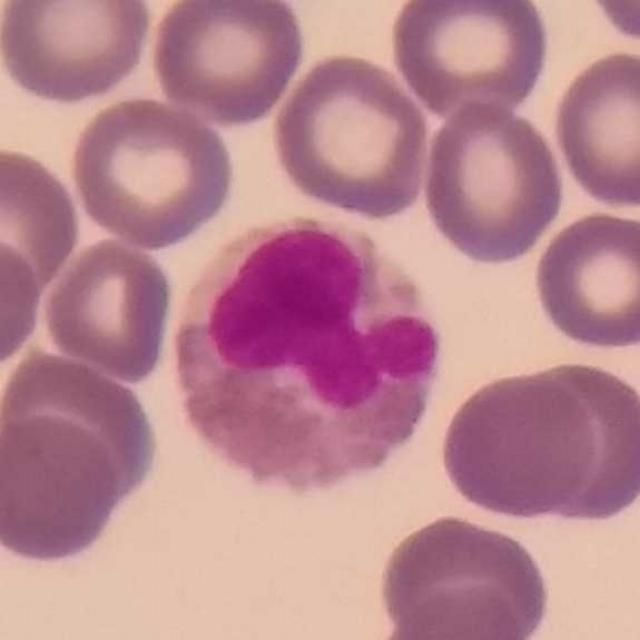eosino: (173, 212, 442, 489)
